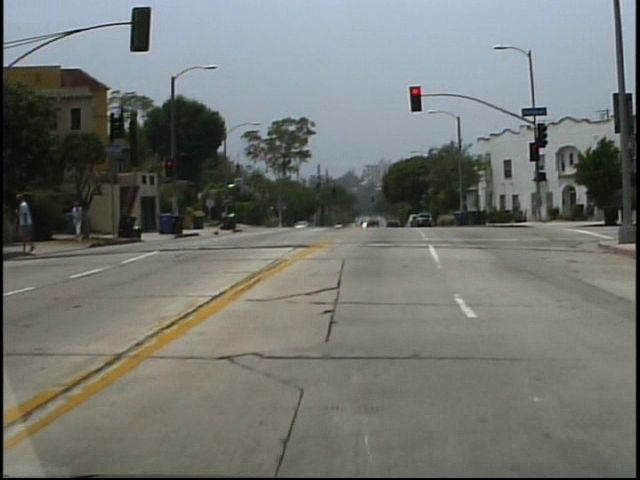person: (22, 191, 47, 254), (75, 201, 89, 243)
